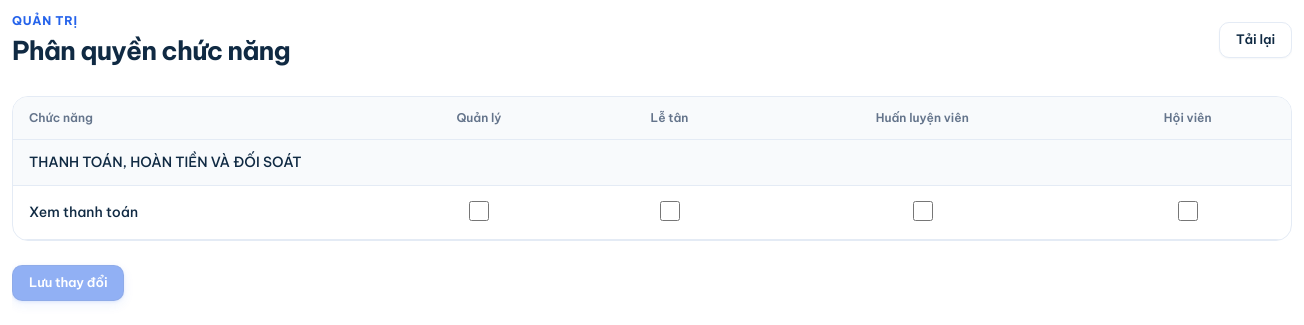
Admin role permission matrix › discards old edits after an explicit successful reload
This screenshot has width=1304, height=325.
Click the checkbox named "Xem thanh toán — manager" at (479, 211), box top-left (469, 201), bottom-right (489, 221)
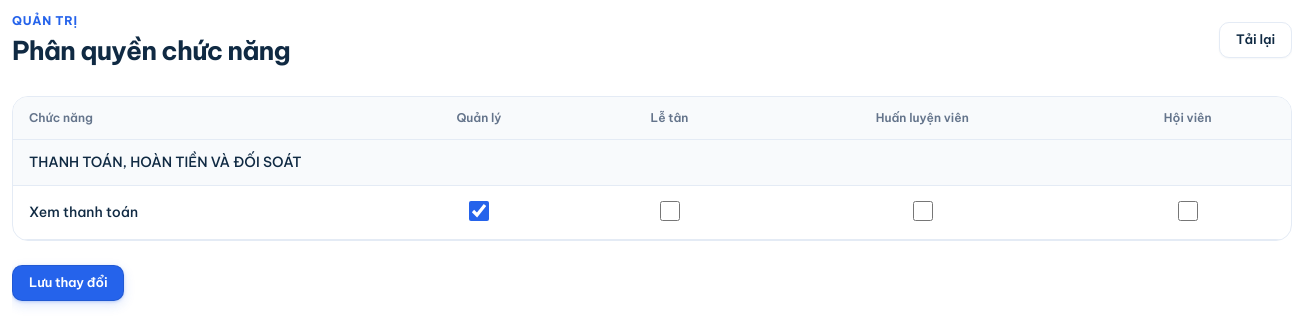
Expected: the checkbox named "Xem thanh toán — manager" is checked, top-left (469, 201), bottom-right (489, 221)
Click the button "Tải lại" at (1256, 40), box top-left (1219, 22), bottom-right (1292, 58)
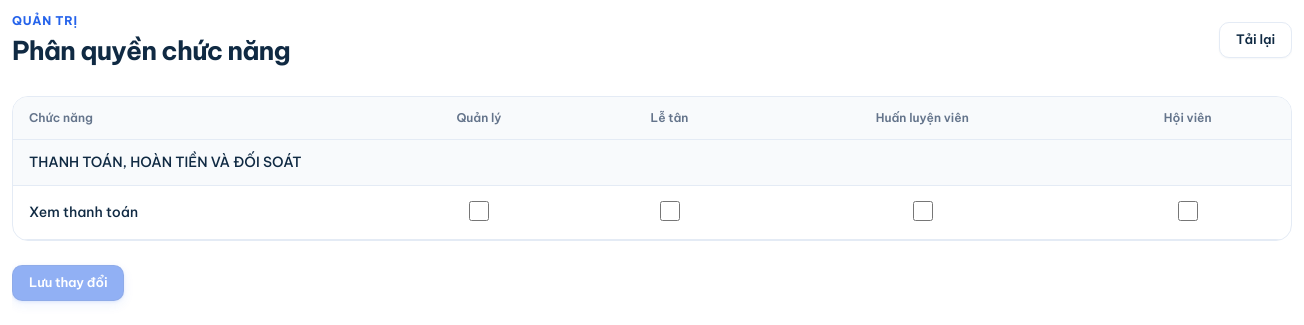
Expected: the checkbox named "Xem thanh toán — manager" is not checked, top-left (469, 201), bottom-right (489, 221)
Expected: the button "Lưu thay đổi" is disabled, top-left (12, 265), bottom-right (124, 301)
